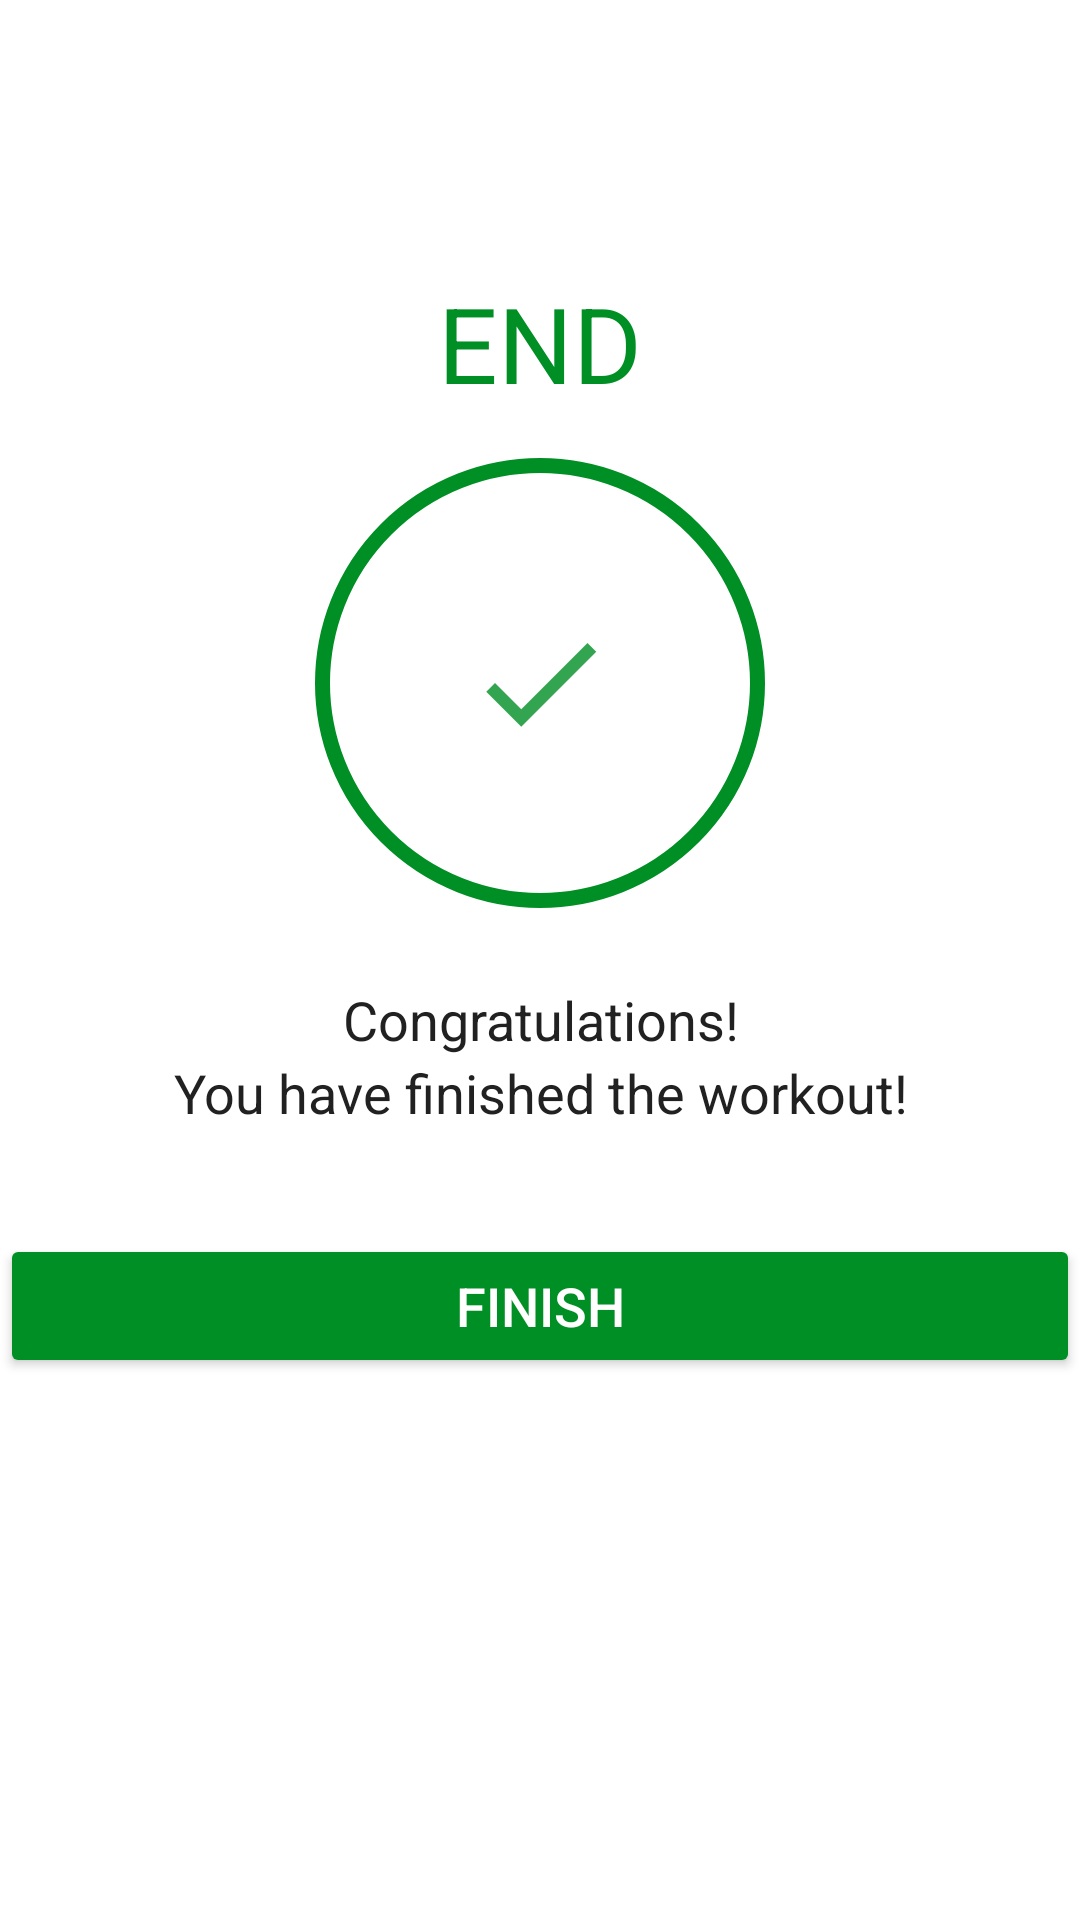

Icons on this 1080 × 1920 Android screen, each with the point to tap as [x,y]:
done: [541,685]
